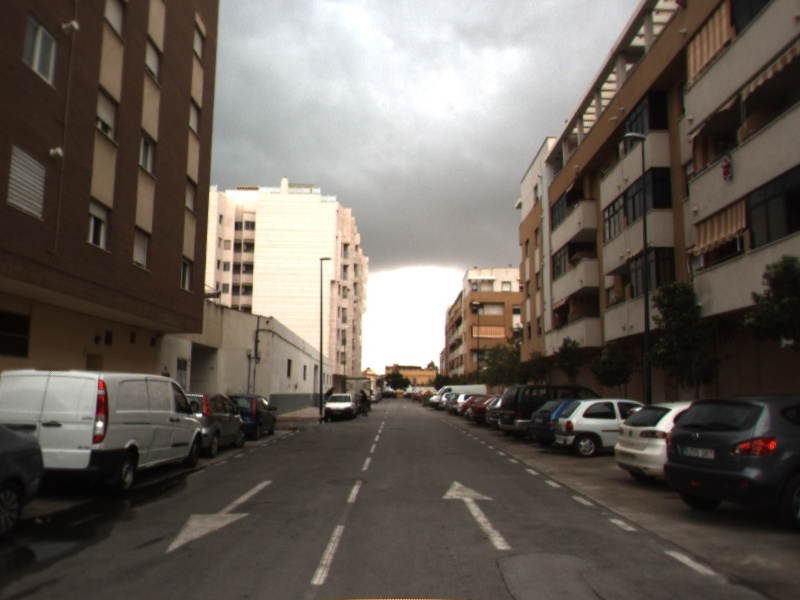STRAIGHT: (440, 479, 516, 552)
